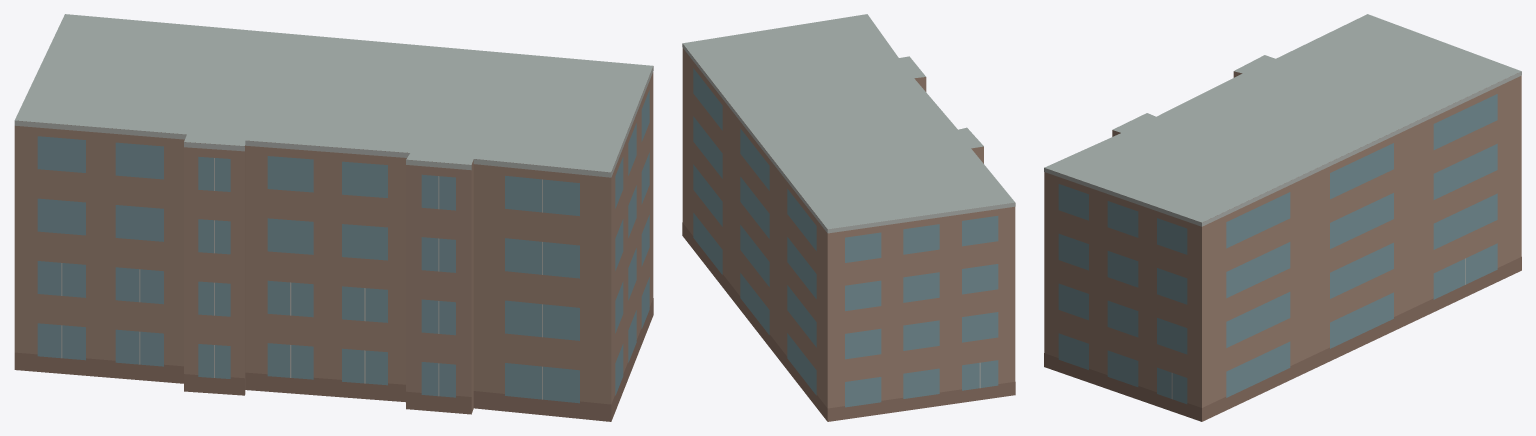
The model's file is survey-upis-32567864.glb.
3 views of the same model, side by side, from view 1: azimuth 30°, elevation 25°; view 2: azimuth 150°, elevation 25°; view 3: azimuth 270°, elevation 25° (orthographic). The views are drawn at different scales.
Visible parts, largest first — view 1: survey-upis-32567864.tmp; view 2: survey-upis-32567864.tmp; view 3: survey-upis-32567864.tmp.
Part boxes in pixels (box(x1,y1,x2,y2)): survey-upis-32567864.tmp: box(14, 14, 653, 421); survey-upis-32567864.tmp: box(682, 14, 1015, 421); survey-upis-32567864.tmp: box(1044, 14, 1521, 421).
Size of the model in its own units: 25.94 by 11.55 by 25.09.
